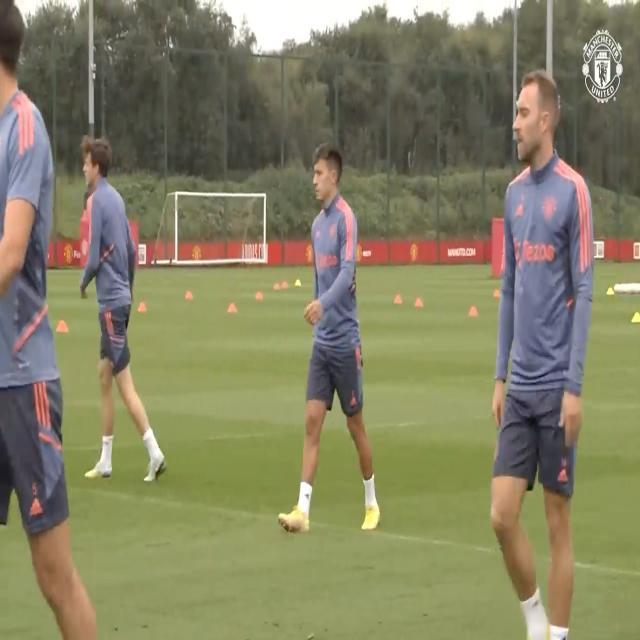Adidas: (29, 497, 44, 518), (558, 469, 570, 484)
